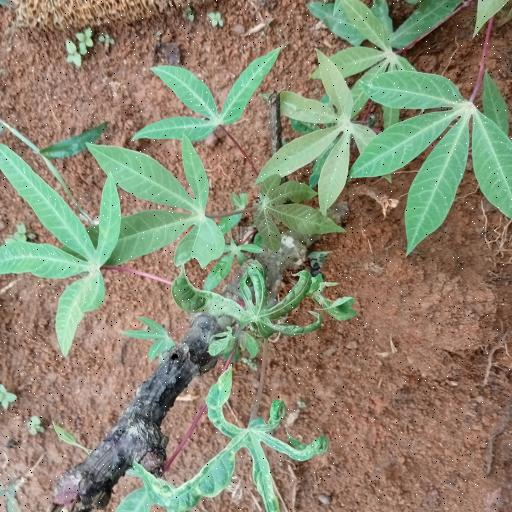Cassava_Mosaic: (157, 366, 316, 512), (270, 66, 383, 216)
